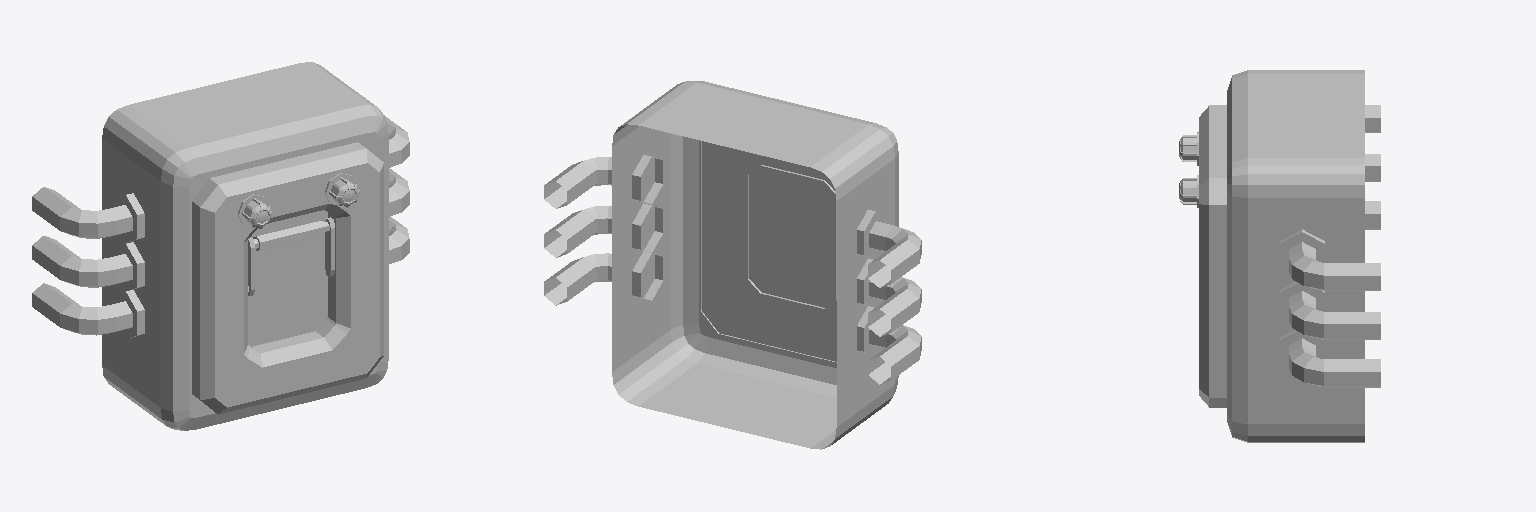
Rendered from Power_Switch.obj.
3 renders of one model, left to right at view 1: azimuth 30°, elevation 25°; view 2: azimuth 150°, elevation 25°; view 3: azimuth 270°, elevation 25°, orthographic.
Parts seen in each view (by area): view 1: Power_Switch; view 2: Power_Switch; view 3: Power_Switch.
Boxes of the visible parts, x1=… form: Power_Switch: x1=32, y1=62, x2=409, y2=430; Power_Switch: x1=544, y1=81, x2=921, y2=449; Power_Switch: x1=1179, y1=70, x2=1380, y2=442.
Bounding box in the file's own units: 55.88 × 43.23 × 28.03.